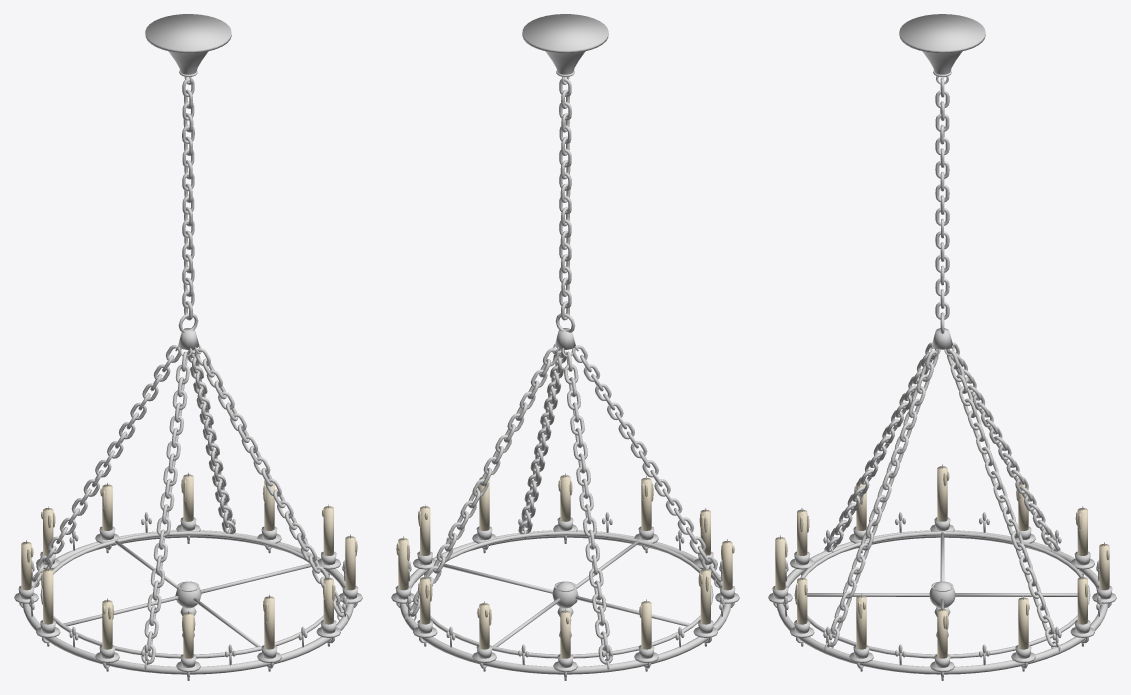
The model's file is prop_candelabro_coroa.glb.
3 renders of one model, left to right at view 1: azimuth 30°, elevation 25°; view 2: azimuth 150°, elevation 25°; view 3: azimuth 270°, elevation 25°, orthographic.
Parts seen in each view (by area): view 1: SM_Candelabro_Coroa; view 2: SM_Candelabro_Coroa; view 3: SM_Candelabro_Coroa.
Part boxes in pixels (box(x1,y1,x2,y2)): SM_Candelabro_Coroa: box(14, 14, 362, 680); SM_Candelabro_Coroa: box(391, 14, 739, 680); SM_Candelabro_Coroa: box(768, 14, 1116, 680).
Bounding box in the file's own units: 1.29 × 2.56 × 1.29.
